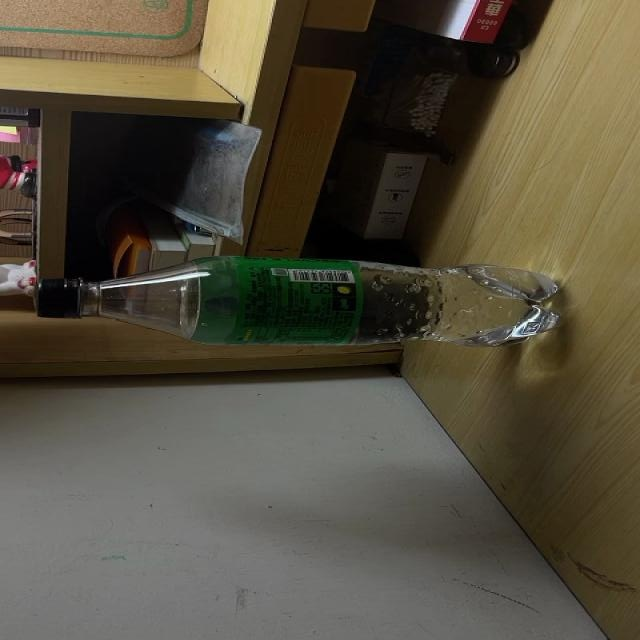Sprite: (36, 258, 565, 344)
